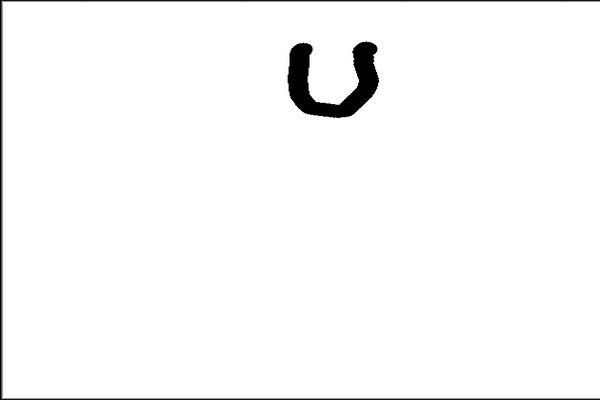U: (273, 31, 386, 124)
